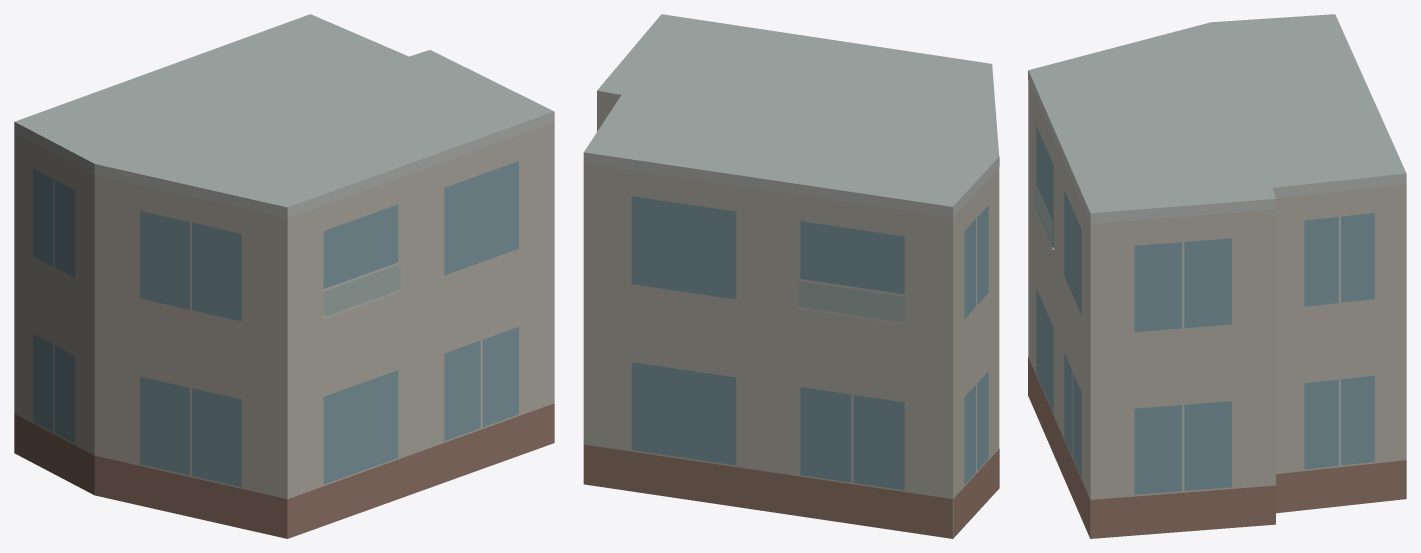
Rendered from survey-upis-32501863.glb.
The picture shows the model from 3 angles, left to right: view 1: azimuth 30°, elevation 25°; view 2: azimuth 150°, elevation 25°; view 3: azimuth 270°, elevation 25°; orthographic projection.
Visible parts, largest first — view 1: survey-upis-32501863.tmp; view 2: survey-upis-32501863.tmp; view 3: survey-upis-32501863.tmp.
Boxes of the visible parts, x1,y1,x2,y2 form: survey-upis-32501863.tmp: (14,14,554,538); survey-upis-32501863.tmp: (583,14,999,538); survey-upis-32501863.tmp: (1028,14,1406,538).
Size of the model in its own units: 9.85 by 7.5 by 7.91.
